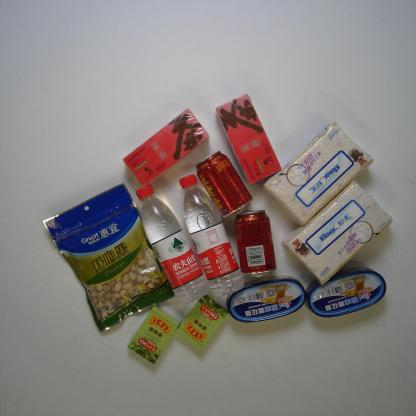Candy: (126, 305, 178, 364), (182, 297, 226, 345)
Canned Food: (304, 266, 386, 319), (226, 277, 302, 325)
Dried Fruit: (40, 183, 178, 331)
Drink: (136, 184, 206, 302), (177, 170, 243, 294), (196, 146, 250, 222), (234, 208, 277, 280)
Instant Drink: (122, 109, 208, 187), (216, 92, 282, 186)
Tissue: (283, 181, 392, 287), (272, 124, 374, 222)
